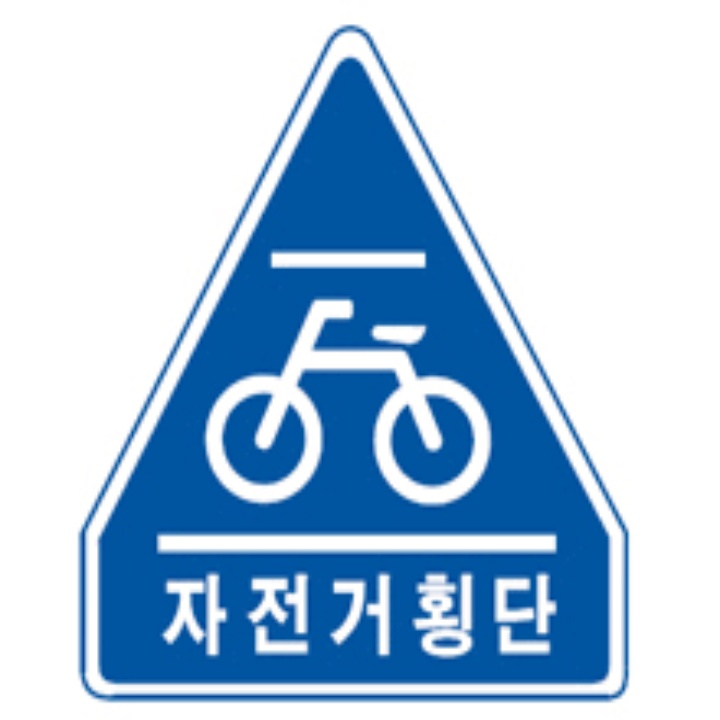bicycle: (207, 295, 493, 509)
